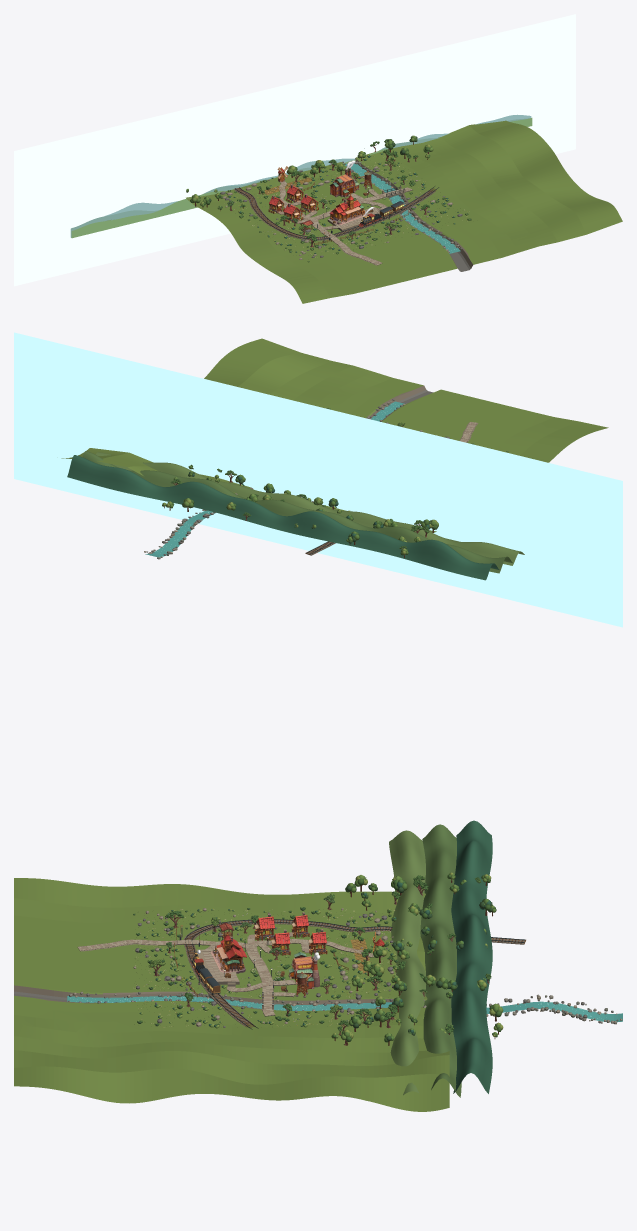
The model's file is valley.glb.
3 renders of one model, top to bottom at view 1: azimuth 30°, elevation 25°; view 2: azimuth 150°, elevation 25°; view 3: azimuth 270°, elevation 25°, orthographic. The views are drawn at different scales.
Parts seen in each view (by area): view 1: object 1, S01_河谷总站, S02_双炉机修工厂; view 2: object 1; view 3: object 1, S01_河谷总站, S02_双炉机修工厂.
Part boxes in pixels (x1,y1,x2,y2): object 1: (14, 14, 622, 303); S01_河谷总站: (329, 193, 366, 224); S02_双炉机修工厂: (330, 168, 359, 197); object 1: (14, 332, 622, 627); object 1: (14, 820, 622, 1111); S01_河谷总站: (210, 931, 246, 973); S02_双炉机修工厂: (288, 952, 319, 989).
Bounding box in the file's own units: 200 × 46 × 137.
Materials: 18 (5 with a texture image).
